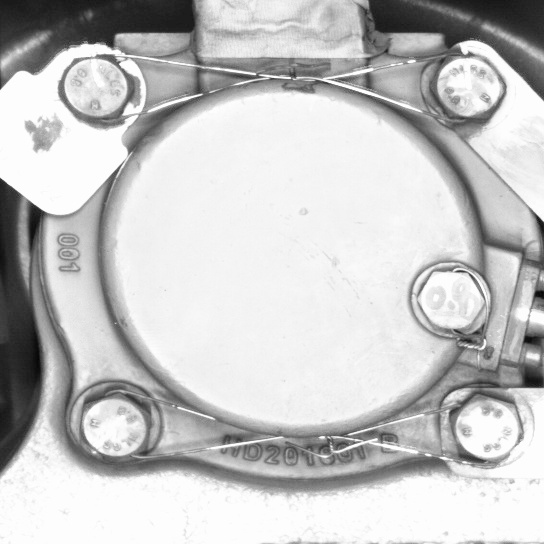IronWire: (52, 40, 508, 136), (67, 379, 532, 469)
Screw: (67, 378, 165, 467), (53, 40, 145, 132), (417, 47, 508, 134), (441, 385, 533, 468), (406, 258, 493, 345)
